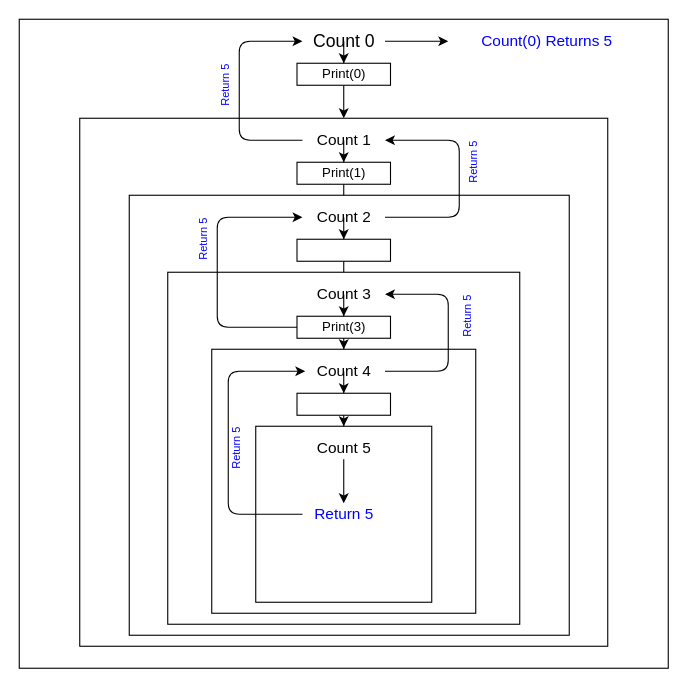
Some shapes in this 688 by 688 pixel diagram are drawn without their labels. The centre of each missing label's shape, as x and y in pixels:
"Print(2)" goes at point 343,249.
"Print(4)" goes at point 343,403.
